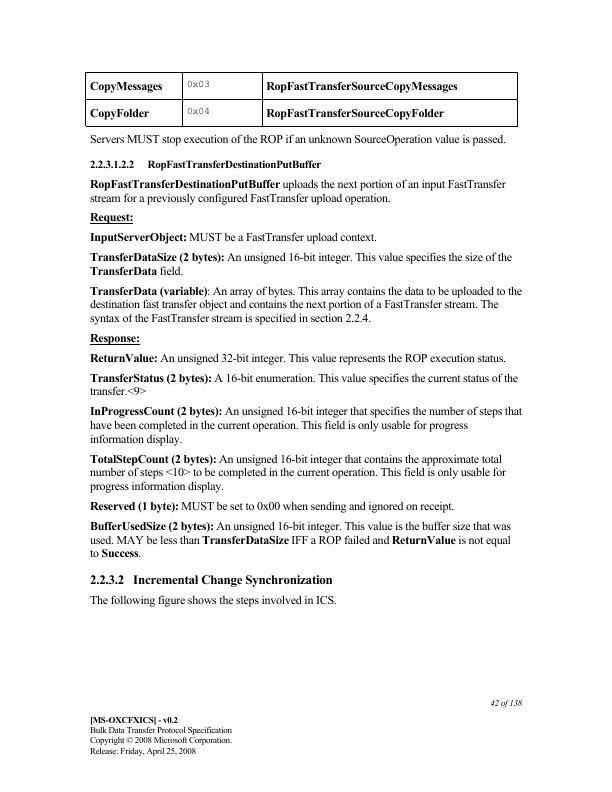table: (82, 70, 520, 129)
text: (87, 451, 512, 495), (87, 519, 513, 562), (86, 405, 527, 446), (88, 283, 524, 323), (86, 178, 509, 207), (87, 250, 513, 278), (86, 370, 519, 395), (83, 131, 507, 147), (86, 714, 234, 758), (86, 350, 505, 365), (86, 499, 456, 514), (86, 571, 337, 589), (87, 592, 339, 609), (85, 231, 379, 245), (86, 158, 326, 172), (83, 210, 138, 228), (86, 331, 143, 347), (484, 694, 527, 710)
